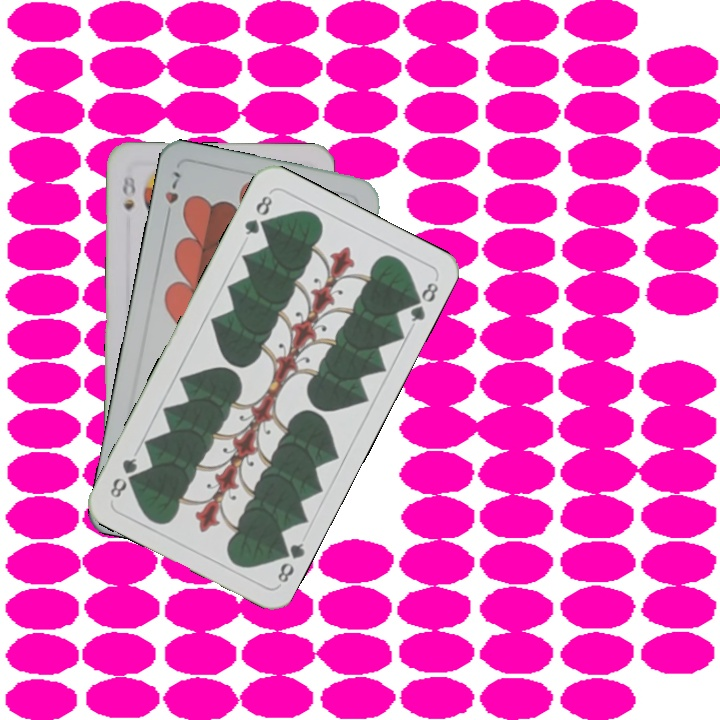G8: (240, 189, 275, 238), (272, 538, 307, 586)
H7: (160, 167, 183, 223)
S8: (118, 172, 138, 214)
